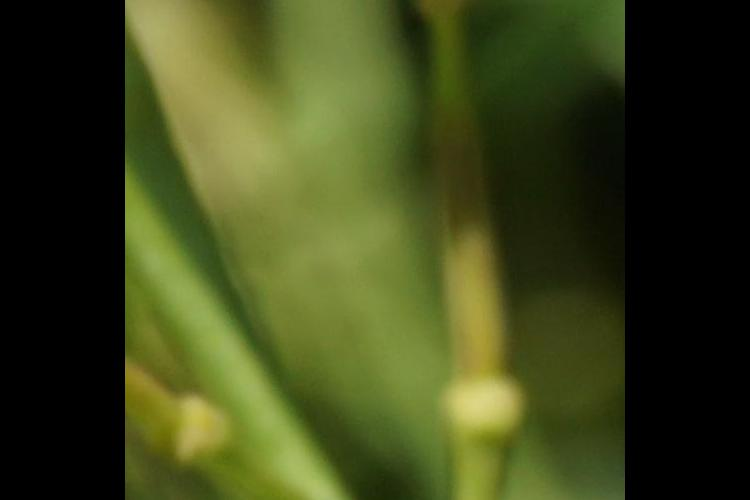pod: (402, 1, 528, 485)
